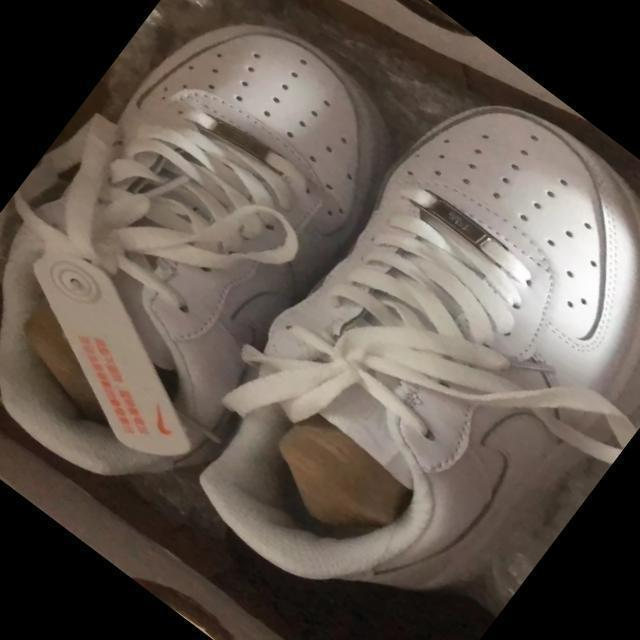nike fake air force: (147, 53, 640, 640), (0, 0, 447, 528)
